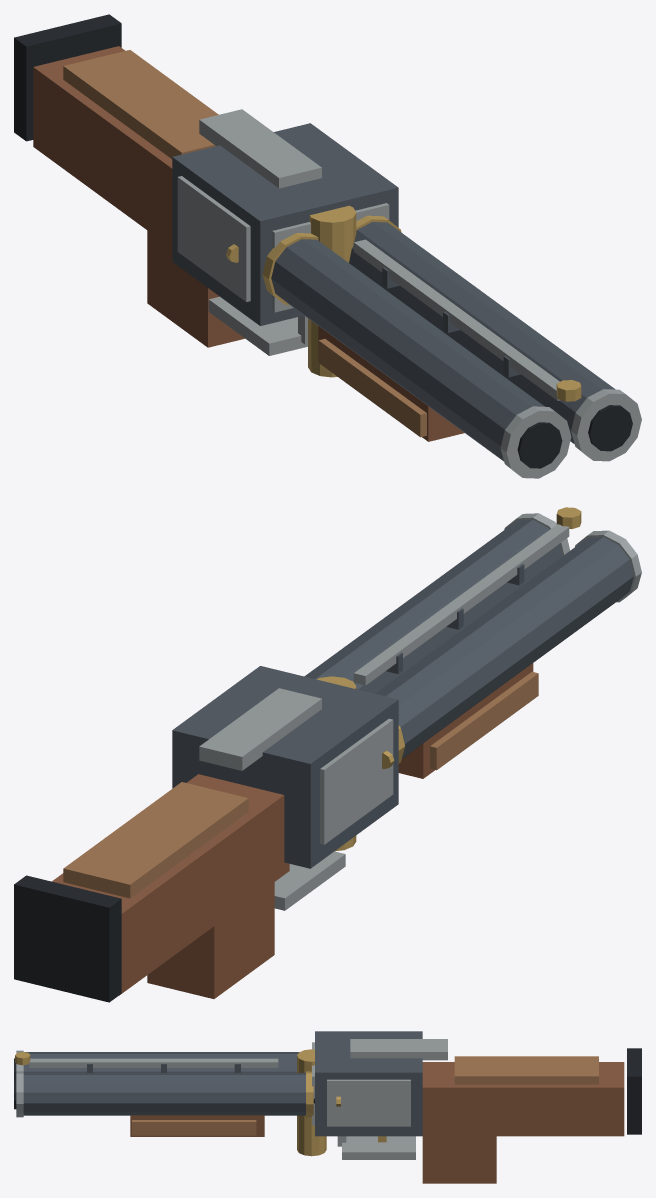
The model's file is shotgun.glb.
3 renders of one model, top to bottom at view 1: azimuth 30°, elevation 25°; view 2: azimuth 150°, elevation 25°; view 3: azimuth 270°, elevation 25°, orthographic. The views are drawn at different scales.
Visible parts, largest first — view 1: Barrel left, Engraved receiver block, Walnut shoulder stock, Barrel right, Stock comb, Receiver sideplate, Butt pad, Pistol grip, Top tang, Ventilated top rib, Fore-end checkering, Hinge pin (+8 smaller); view 2: Barrel left, Engraved receiver block, Walnut shoulder stock, Butt pad, Stock comb, Barrel right, Pistol grip, Receiver sideplate, Top tang, Ventilated top rib, Fore-end checkering, Trigger guard lower (+2 smaller); view 3: Barrel right, Walnut shoulder stock, Engraved receiver block, Stock comb, Receiver sideplate.001, Pistol grip, Barrel left, Ventilated top rib, Top tang, Fore-end checkering.001, Trigger guard lower, Butt pad (+4 smaller).
Part boxes in pixels (left/top/right/bottom): Barrel left: left=271, top=239, right=544, bottom=461; Engraved receiver block: left=172, top=123, right=398, bottom=325; Walnut shoulder stock: left=33, top=46, right=172, bottom=248; Barrel right: left=349, top=222, right=615, bottom=443; Stock comb: left=63, top=50, right=218, bottom=158; Receiver sideplate: left=177, top=176, right=250, bottom=301; Butt pad: left=14, top=14, right=121, bottom=141; Pistol grip: left=147, top=230, right=244, bottom=347; Top tang: left=199, top=109, right=321, bottom=188; Ventilated top rib: left=353, top=239, right=560, bottom=400; Fore-end checkering: left=318, top=339, right=426, bottom=437; Hinge pin: left=308, top=205, right=356, bottom=377; Barrel left: left=375, top=537, right=633, bottom=758; Engraved receiver block: left=172, top=666, right=398, bottom=868; Walnut shoulder stock: left=52, top=774, right=289, bottom=995; Butt pad: left=14, top=875, right=121, bottom=1002; Stock comb: left=63, top=782, right=248, bottom=898; Barrel right: left=304, top=519, right=562, bottom=693; Pistol grip: left=147, top=882, right=274, bottom=998; Receiver sideplate: left=320, top=718, right=393, bottom=844; Top tang: left=199, top=688, right=321, bottom=770; Ventilated top rib: left=353, top=524, right=569, bottom=685; Fore-end checkering: left=430, top=671, right=538, bottom=770; Trigger guard lower: left=274, top=851, right=345, bottom=910; Barrel right: left=23, top=1073, right=305, bottom=1115; Walnut shoulder stock: left=422, top=1062, right=624, bottom=1136; Engraved receiver block: left=315, top=1031, right=422, bottom=1136; Stock comb: left=454, top=1056, right=598, bottom=1084; Receiver sideplate.001: left=327, top=1079, right=410, bottom=1126; Pistol grip: left=422, top=1136, right=496, bottom=1183; Barrel left: left=23, top=1052, right=299, bottom=1072; Ventilated top rib: left=29, top=1058, right=278, bottom=1067; Top tang: left=350, top=1039, right=447, bottom=1060; Fore-end checkering.001: left=132, top=1120, right=256, bottom=1135; Trigger guard lower: left=342, top=1136, right=415, bottom=1159; Butt pad: left=627, top=1048, right=641, bottom=1134.
Size of the model in its own units: 0.346 by 0.421 by 1.87.
